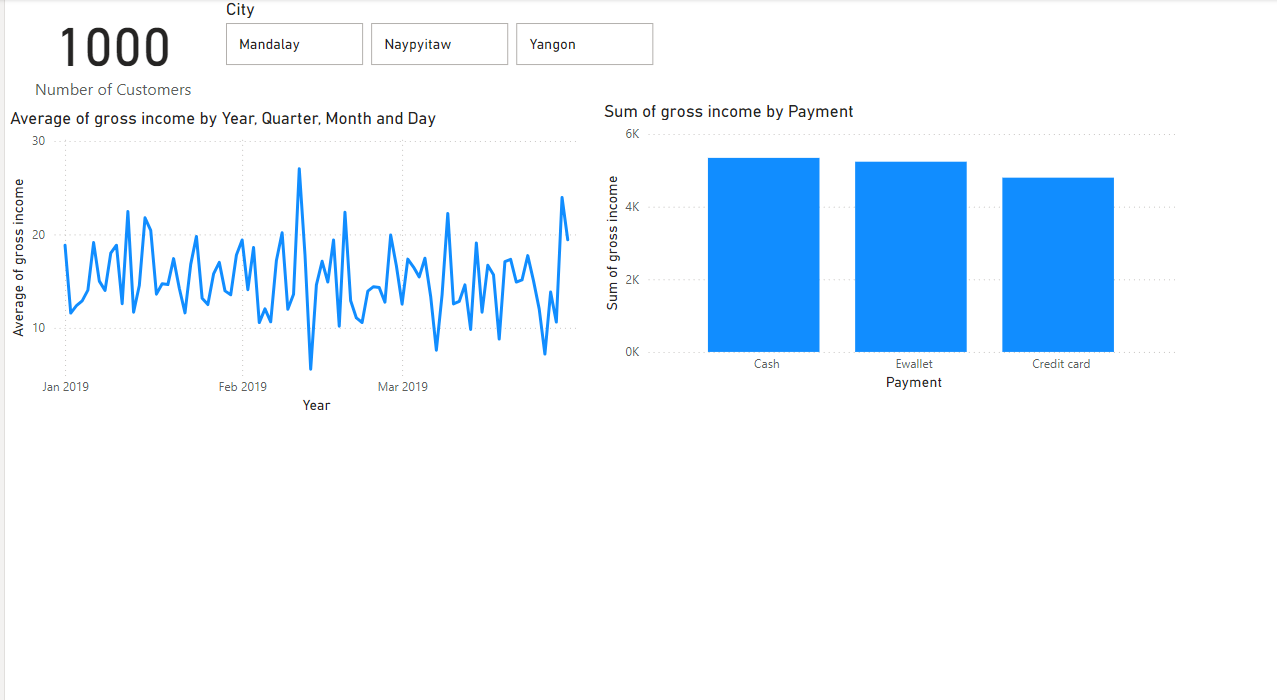

What the dashboard file says about the page in this screenshot:
{"tool":"powerbi","page":{"name":"Page 2","canvas":[1280,720],"ordinal":1},"visuals":[{"type":"lineChart","fields":{"Y":["Avg(supermarket_sales - Sheet1.gross income)"],"Category":["supermarket_sales - Sheet1.Date.Variation.Date Hierarchy.Year","supermarket_sales - Sheet1.Date.Variation.Date Hierarchy.Quarter","supermarket_sales - Sheet1.Date.Variation.Date Hierarchy.Month","supermarket_sales - Sheet1.Date.Variation.Date Hierarchy.Day"]},"box":[0,108.9,593.3,309.3],"z":0},{"type":"card","fields":{"Values":["CountNonNull(supermarket_sales - Sheet1.Invoice ID)"]},"box":[0,0,215.9,102.1],"z":1000},{"type":"columnChart","fields":{"Category":["supermarket_sales - Sheet1.Payment"],"Y":["Sum(supermarket_sales - Sheet1.gross income)"]},"box":[593.3,102.1,584.6,293.7],"z":2000},{"type":"advancedSlicerVisual","fields":{"Values":["supermarket_sales - Sheet1.City"]},"box":[215.9,0,437.7,71],"z":3000}]}

Visuals, with their boxes in screenshot pixels (x1, y1, x2, y2), scaled from the page's 1280x720 canvas onto the 1277x700 screenshot:
lineChart - Avg(supermarket_sales - Sheet1.gross income) x supermarket_sales - Sheet1.Date.Variation.Date Hierarchy.Year: {"x1": 0, "y1": 106, "x2": 592, "y2": 407}
card - CountNonNull(supermarket_sales - Sheet1.Invoice ID): {"x1": 0, "y1": 0, "x2": 215, "y2": 99}
columnChart - supermarket_sales - Sheet1.Payment x Sum(supermarket_sales - Sheet1.gross income): {"x1": 592, "y1": 99, "x2": 1175, "y2": 385}
advancedSlicerVisual - supermarket_sales - Sheet1.City: {"x1": 215, "y1": 0, "x2": 652, "y2": 69}
